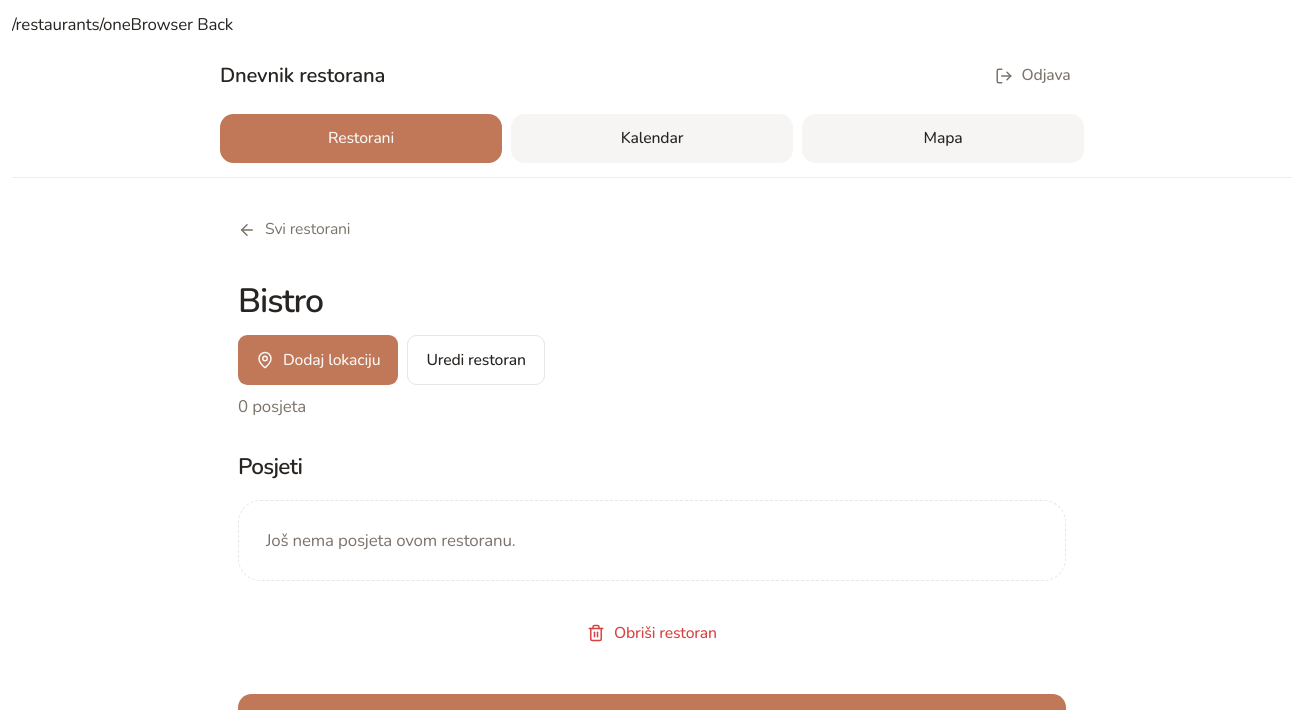
Test: Restaurant V1 routes › offers the existing editor for a restaurant without a usable location: {"lat":null,"lng":null,"address":null}
Click the link "Dodaj lokaciju".
click(318, 360)  # box x1=238 y1=335 x2=398 y2=385
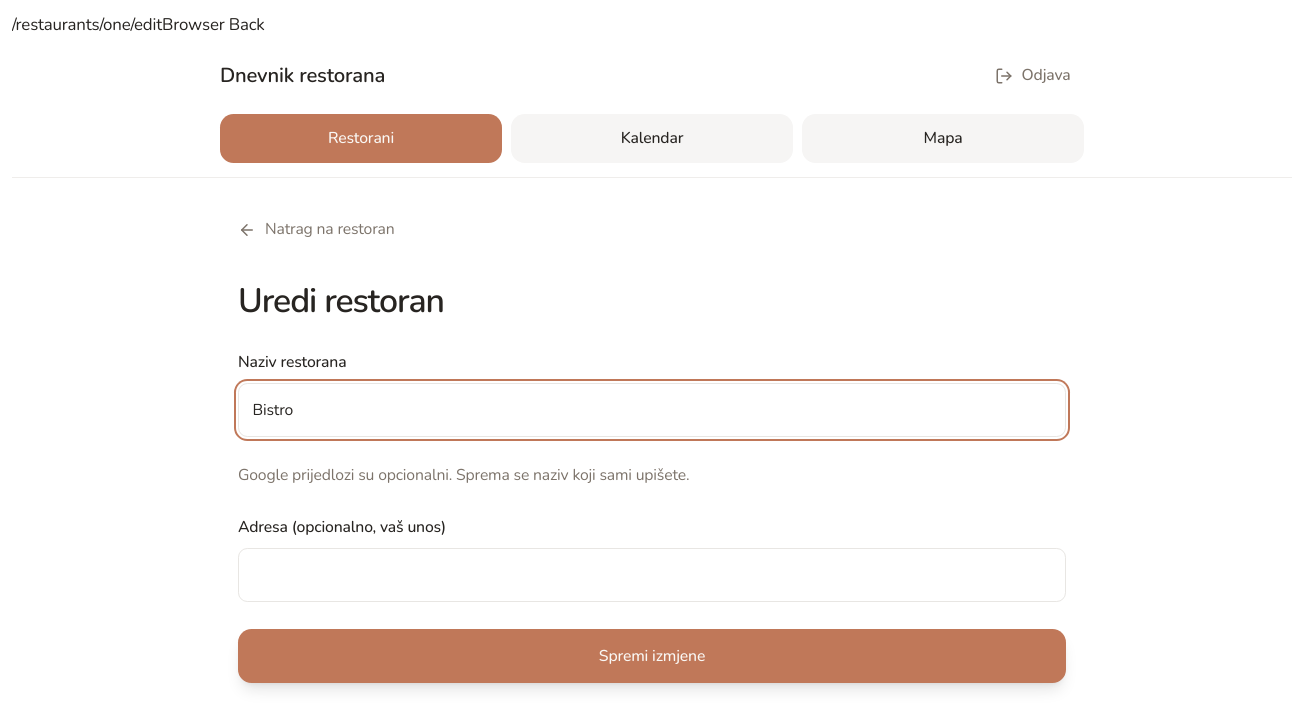
expect the heading "Uredi restoran" is shown: met, box x1=238 y1=278 x2=444 y2=324
expect the field labelled "Naziv restorana" holds "Bistro": met
Replace the text in the field labelled "Naziv restorana" with "Bistro Zagreb" at x=652, y=410, box x1=238 y1=383 x2=1066 y2=437
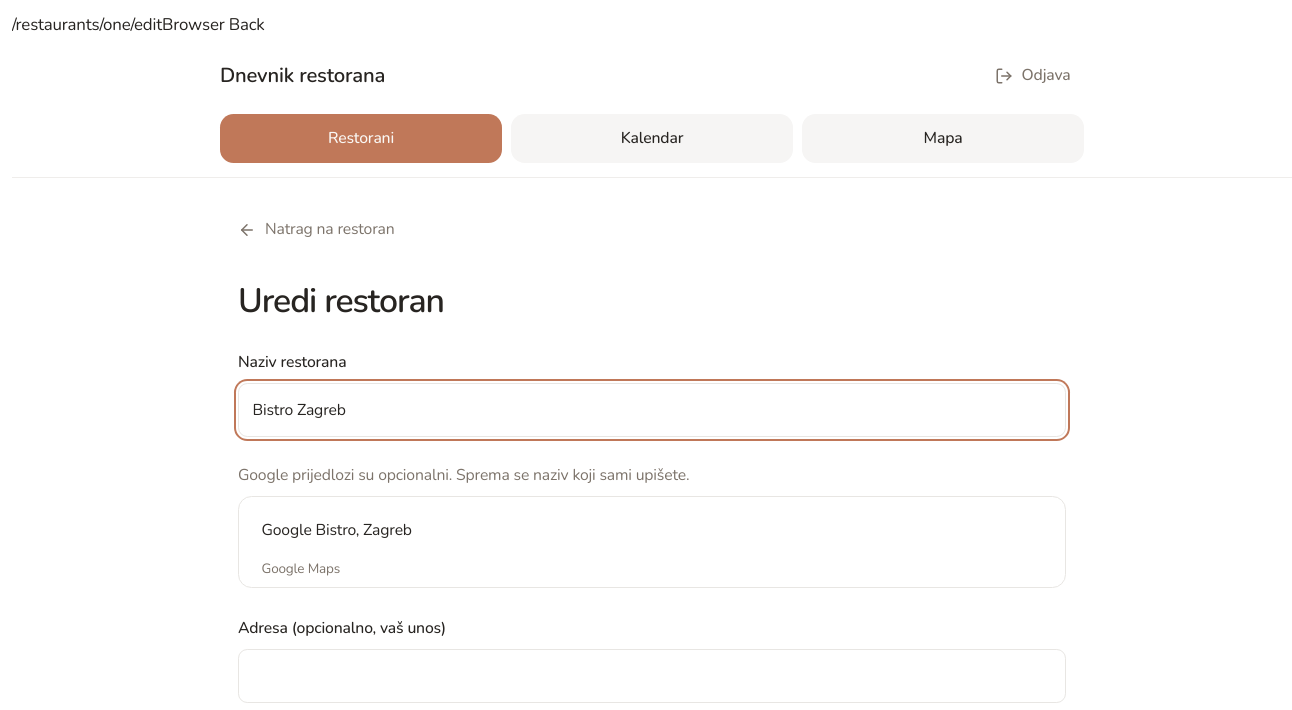
expect the button "Google Bistro, Zagreb" is shown: met, box x1=248 y1=506 x2=1056 y2=555
